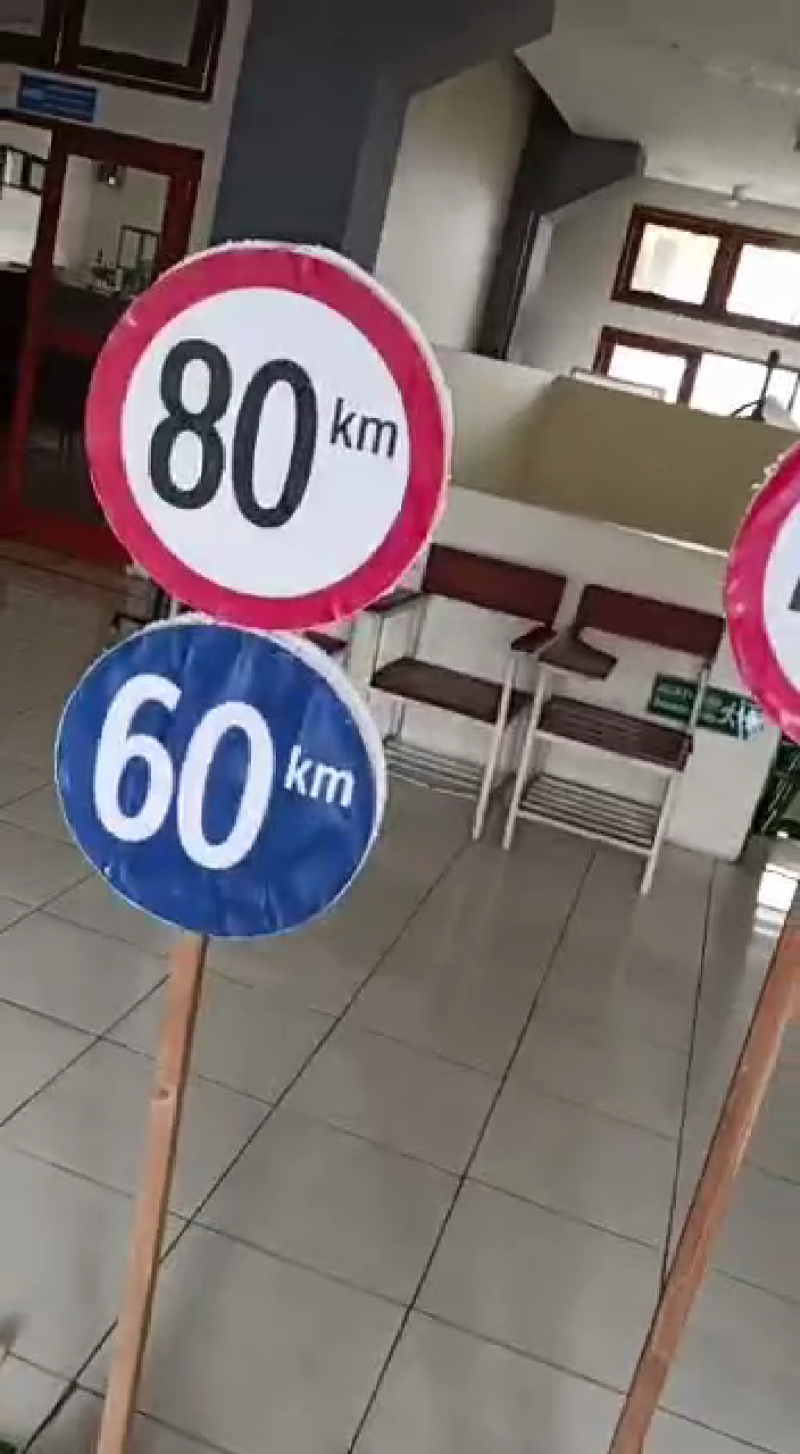batas maksimal 80kmperjam minimal 60kmperjam: (49, 227, 463, 971)
